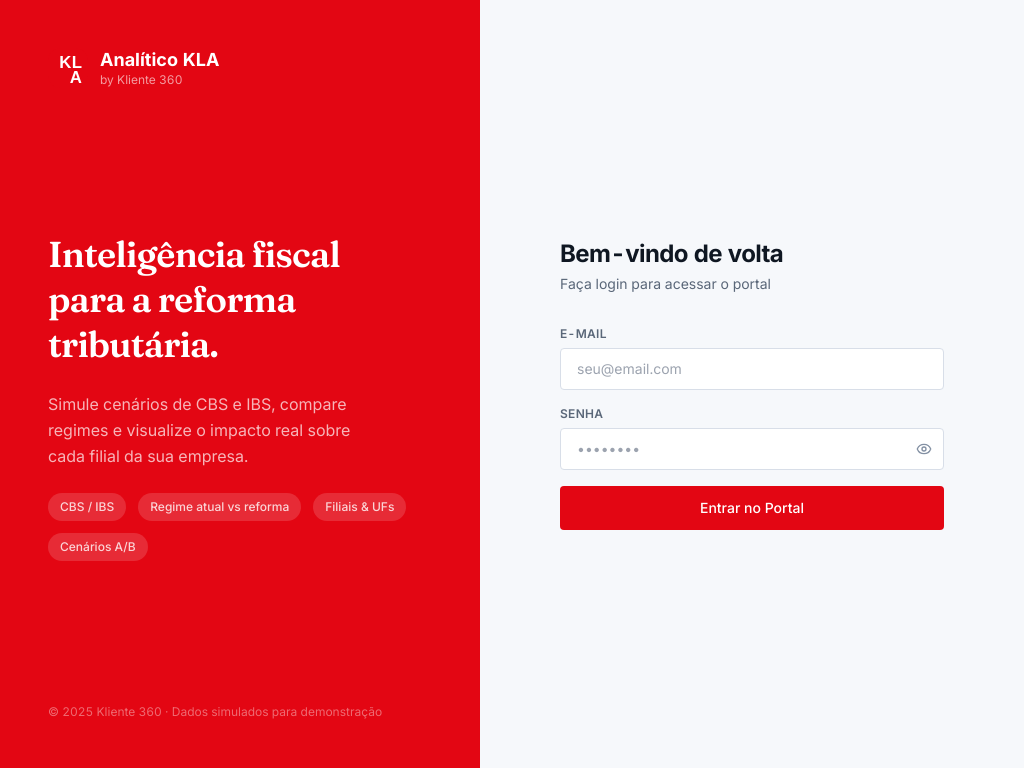
Test: LoginPage › shows error on invalid credentials
Type "wrong@example.com" into the field labelled "E-mail".
click(752, 369); type("wrong@example.com")  # box [560, 348, 944, 390]
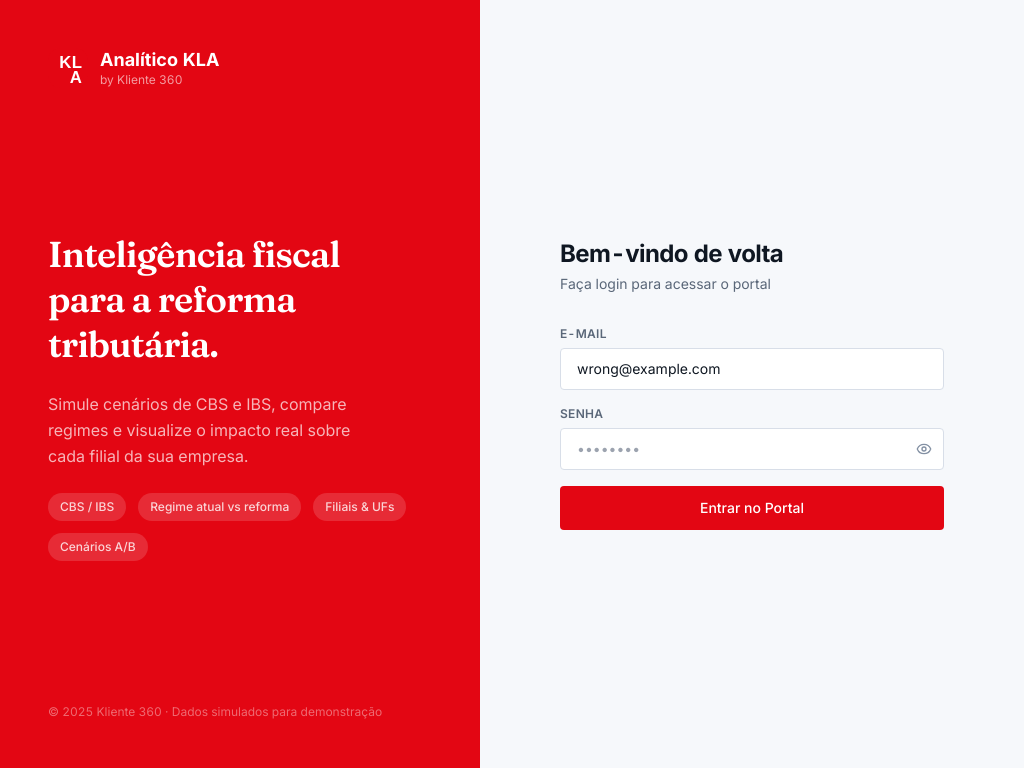
Type "wrongpassword" into the password field labelled "Senha".
click(752, 449); type("wrongpassword")  # box [560, 428, 944, 470]
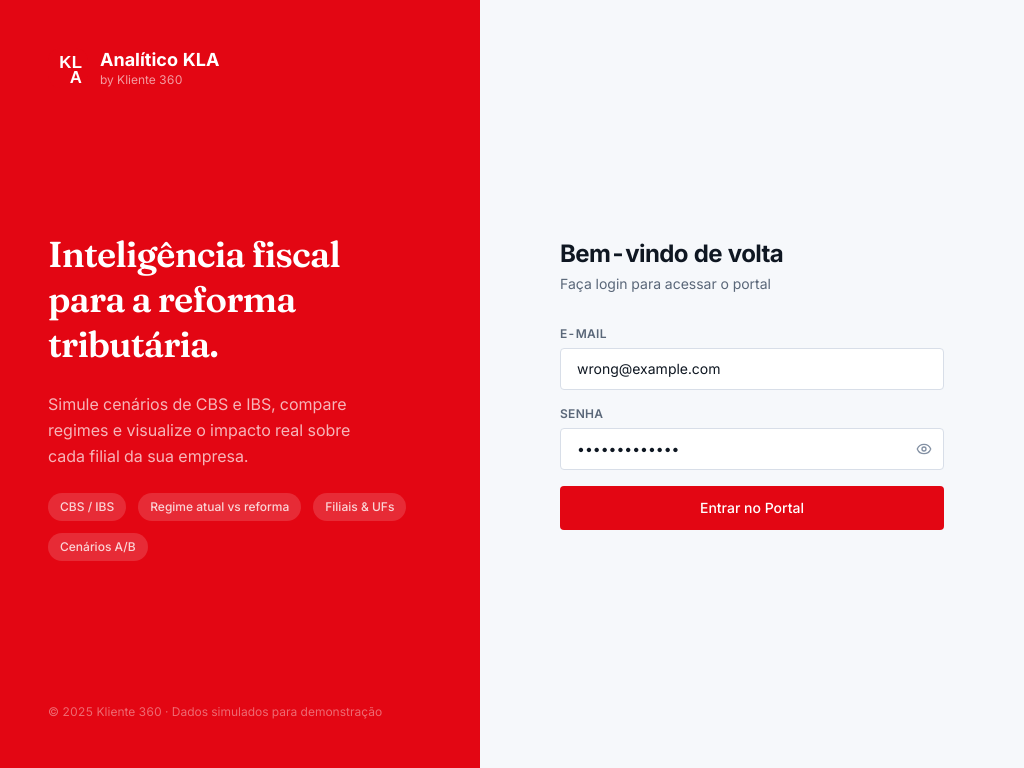
Submit the form "E-mail Senha Entrar no Portal", box [560, 326, 944, 530]
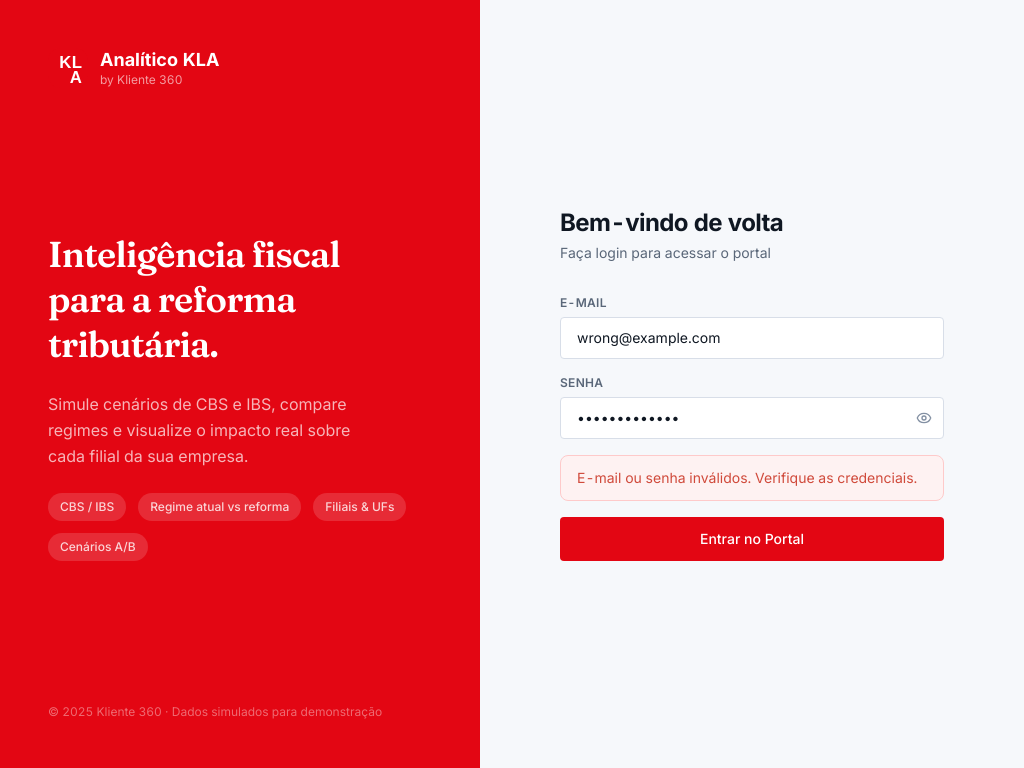
Check: the text "E-mail ou senha inválidos. Verifique as credenciais." is shown, box [560, 455, 944, 501]
